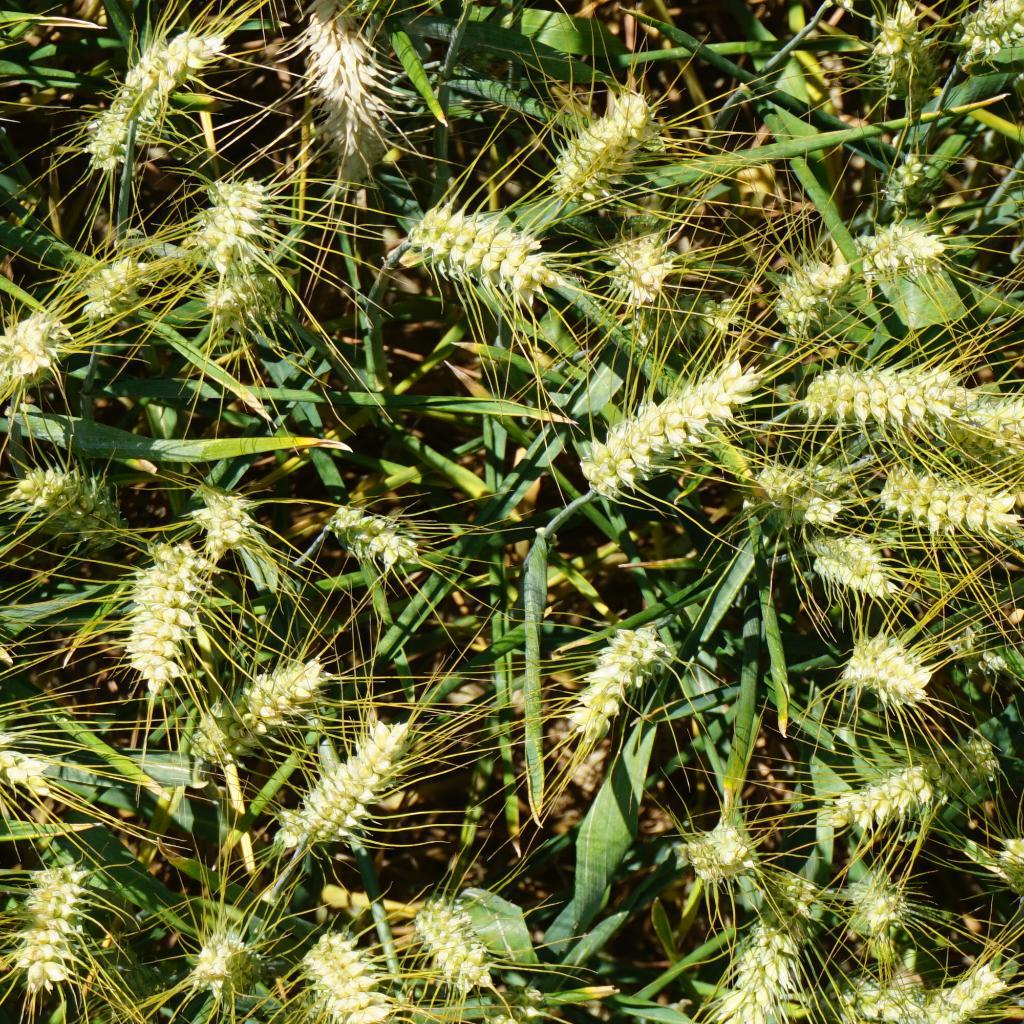0-0: (571, 372, 738, 502), (395, 206, 557, 316), (531, 96, 672, 203), (287, 0, 399, 133), (874, 460, 1024, 559), (804, 349, 964, 436), (291, 726, 408, 843), (203, 669, 327, 771), (116, 544, 211, 671), (17, 857, 96, 1002), (839, 753, 941, 850), (718, 920, 812, 1024), (415, 881, 504, 988), (676, 792, 775, 888), (613, 291, 752, 359), (12, 459, 124, 543), (576, 624, 647, 746), (806, 527, 903, 611), (129, 16, 226, 92), (312, 932, 392, 1024), (843, 632, 935, 711), (91, 62, 153, 177), (204, 177, 270, 277), (324, 497, 413, 571), (935, 615, 1024, 687), (896, 963, 996, 1024), (605, 231, 687, 305), (861, 223, 956, 285), (871, 8, 935, 95), (0, 688, 51, 795), (766, 252, 840, 324), (193, 924, 254, 1011), (0, 305, 60, 392), (190, 475, 261, 548), (930, 735, 999, 806), (207, 264, 278, 331), (945, 378, 1024, 436), (86, 256, 149, 324), (854, 867, 918, 932), (960, 0, 1024, 59), (888, 150, 945, 213), (846, 965, 901, 1024), (752, 459, 800, 506), (994, 824, 1024, 897), (455, 1001, 540, 1024)
